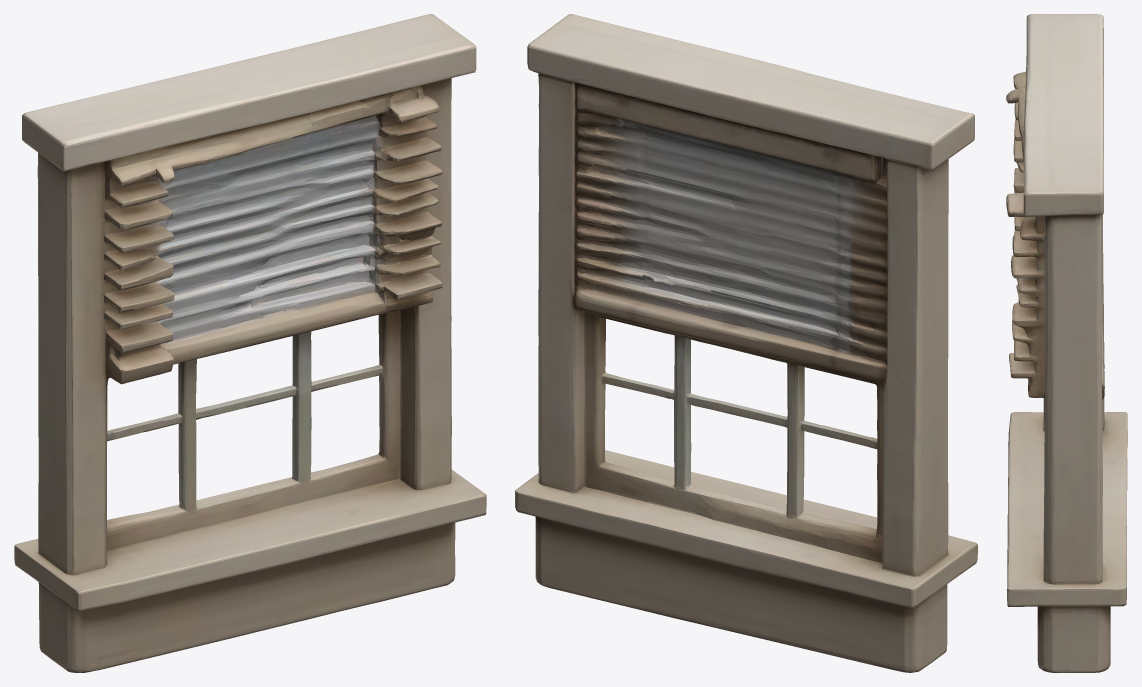
File: window.glb
3 views of the same model, side by side, from view 1: azimuth 30°, elevation 25°; view 2: azimuth 150°, elevation 25°; view 3: azimuth 270°, elevation 25° (orthographic). The views are drawn at different scales.
Visible parts, largest first — view 1: world; view 2: world; view 3: world.
Boxes of the visible parts, left/top/right/bottom form: world: left=14, top=14, right=486, bottom=672; world: left=515, top=14, right=977, bottom=672; world: left=1006, top=14, right=1127, bottom=672.
Size of the model in its own units: 0.7972 by 1 by 0.2272.
Materials: 1 (1 with a texture image).
